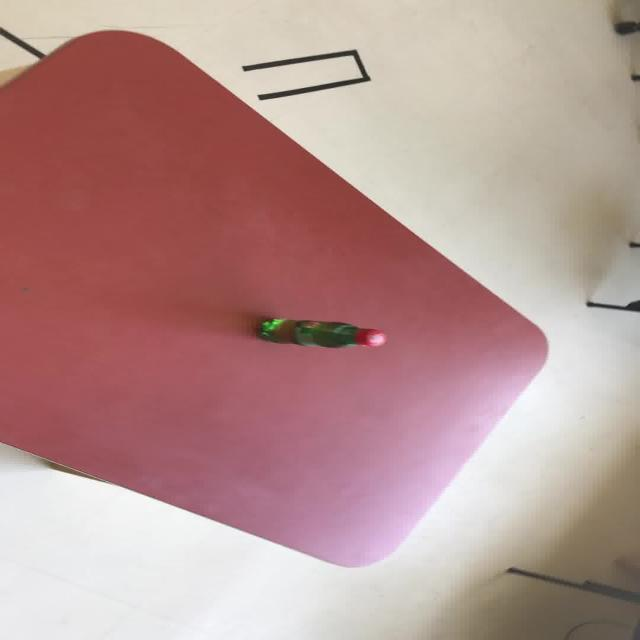guarana: (1, 28, 550, 567), (256, 316, 386, 348)
